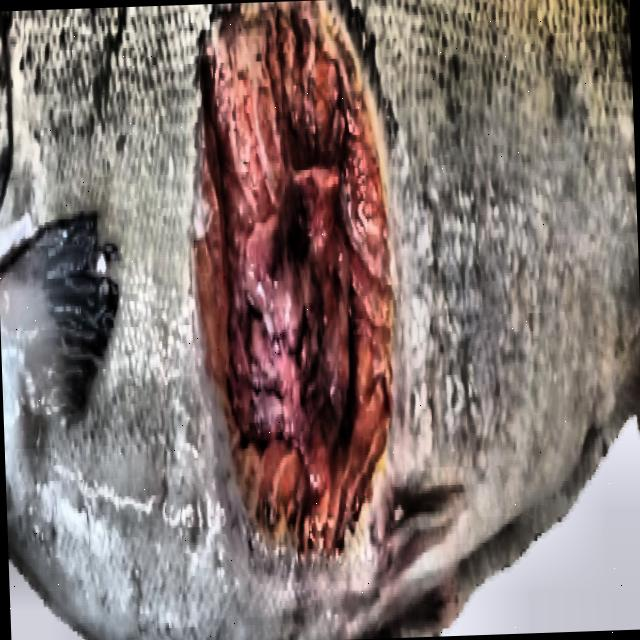mild_red: (0, 0, 640, 640)
wound: (193, 2, 394, 568)
